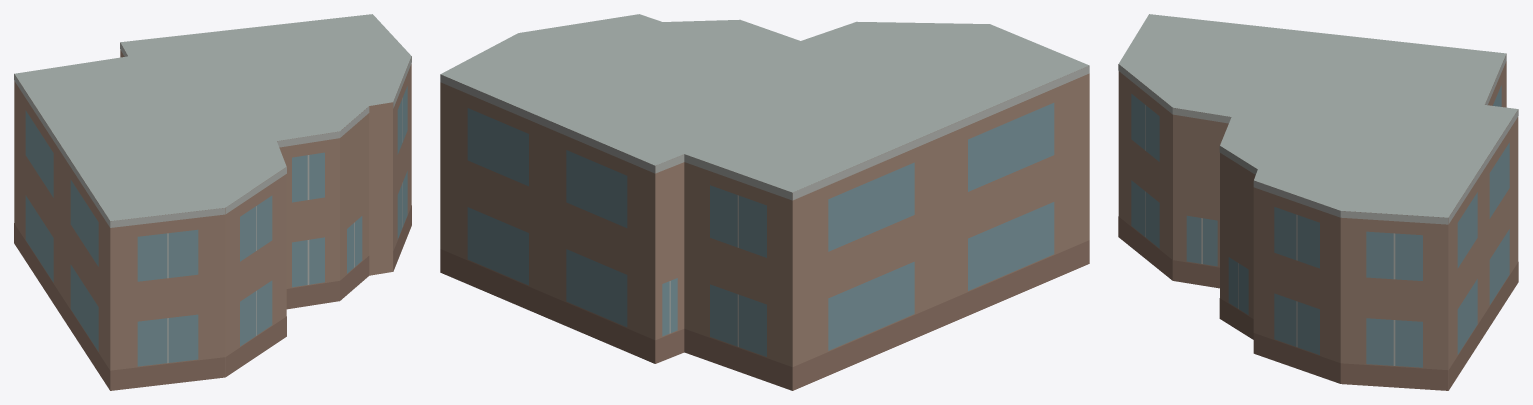
Rendered from survey-upis-32640483.glb.
3 views of the same model, side by side, from view 1: azimuth 30°, elevation 25°; view 2: azimuth 150°, elevation 25°; view 3: azimuth 270°, elevation 25° (orthographic). The views are drawn at different scales.
Visible parts, largest first — view 1: survey-upis-32640483.tmp; view 2: survey-upis-32640483.tmp; view 3: survey-upis-32640483.tmp.
Boxes of the visible parts, x1,y1,x2,y2 form: survey-upis-32640483.tmp: [14, 14, 411, 390]; survey-upis-32640483.tmp: [440, 14, 1089, 390]; survey-upis-32640483.tmp: [1118, 14, 1518, 390].
Bounding box in the file's own units: 15.4 × 6.1 × 12.78.
